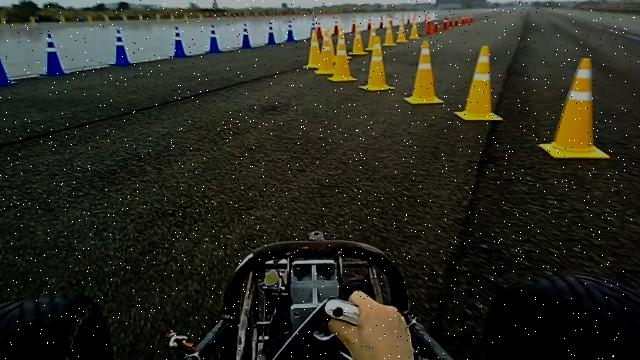blue cone: (39, 32, 69, 76), (108, 28, 136, 66), (0, 36, 17, 87), (168, 26, 188, 58), (205, 23, 223, 54), (240, 22, 252, 49)
yellow cone: (537, 56, 610, 161), (454, 44, 504, 122), (403, 39, 444, 105), (359, 34, 395, 92), (326, 29, 356, 82), (313, 29, 339, 75), (302, 30, 321, 69)
